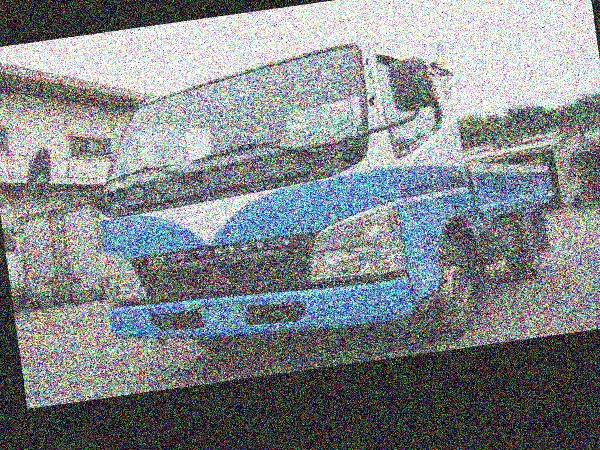truck: (74, 18, 571, 388)
